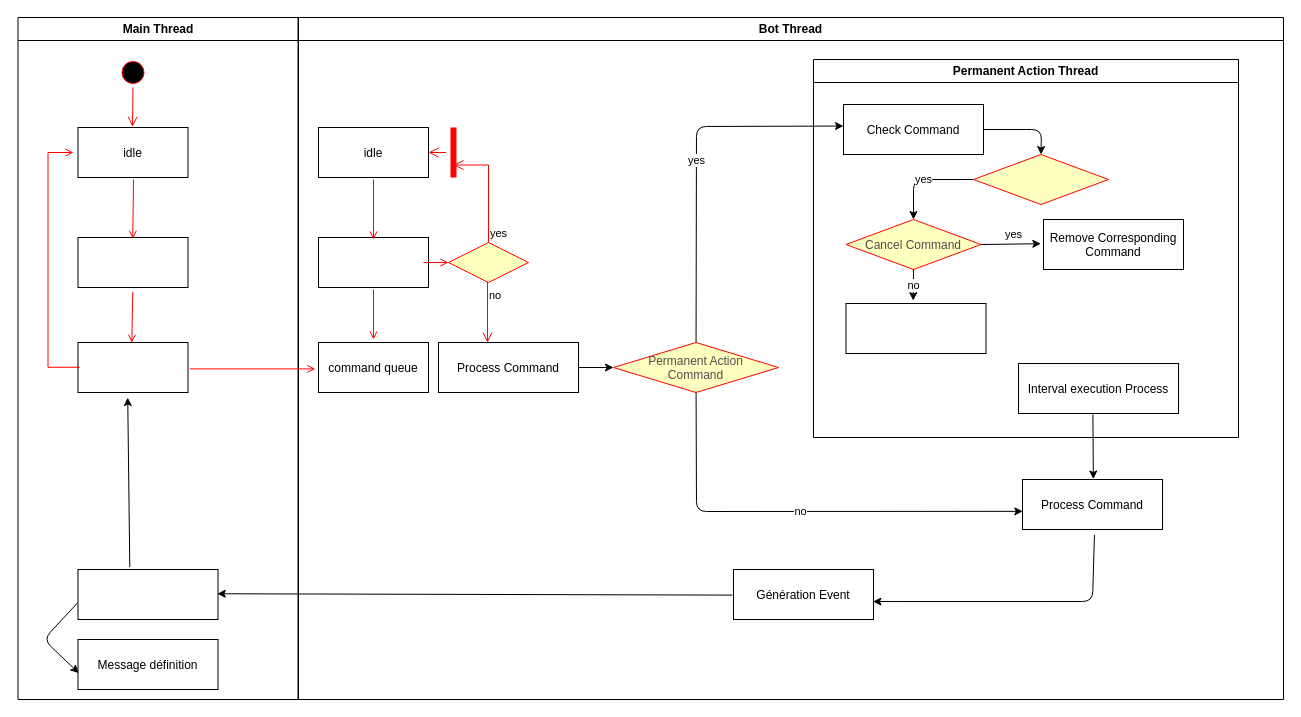
Image size: 1301x717. Some labels were removed from this diagram. The shapes that lost their labels are listed below. From the top down, each one's centre as x and y in pixels, then its label:
At point (1040, 179): "Is valid command".
At point (132, 262): "client command".
At point (373, 262): "check for new commands".
At point (488, 262): "queue empty".
At point (915, 328): "Add Command".
At point (132, 367): "select Bot Thread".
At point (147, 594): "Event Processor".
